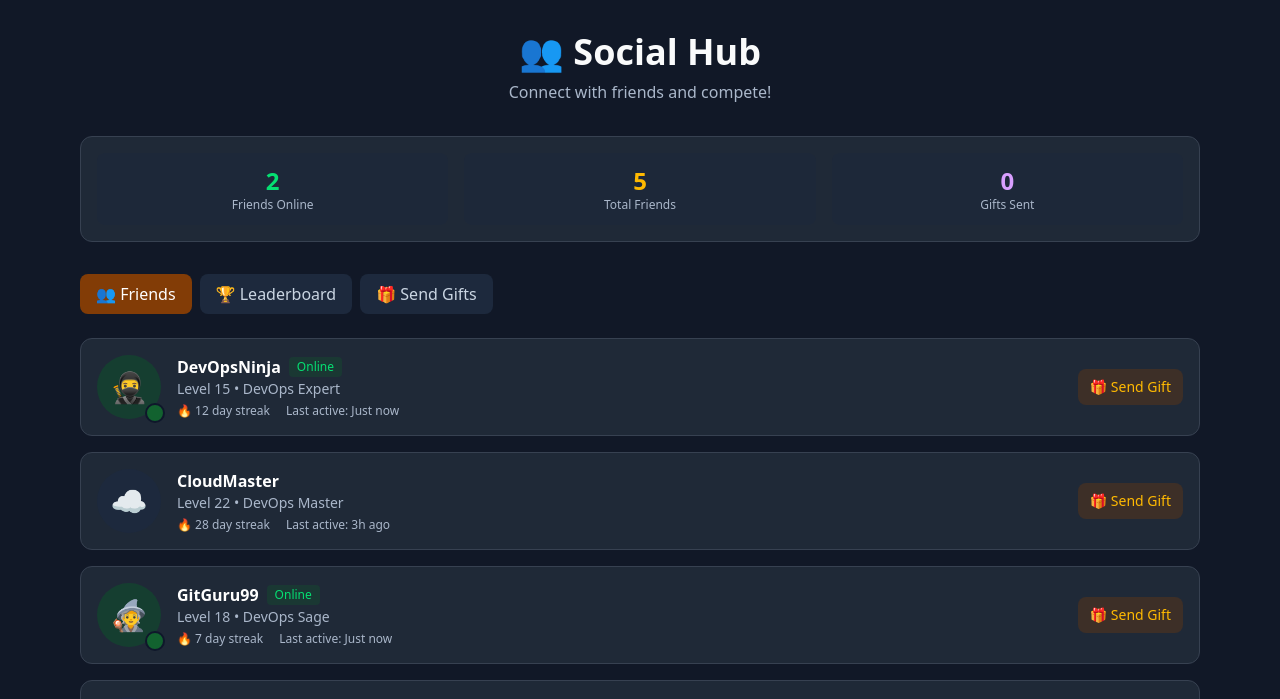
it: SocialPage › merges the player into the friends leaderboard
The width and height of the screenshot is (1280, 699).
Click the button "🏆 Leaderboard" at (276, 294), box [200,274,352,314]
(page scrolled)
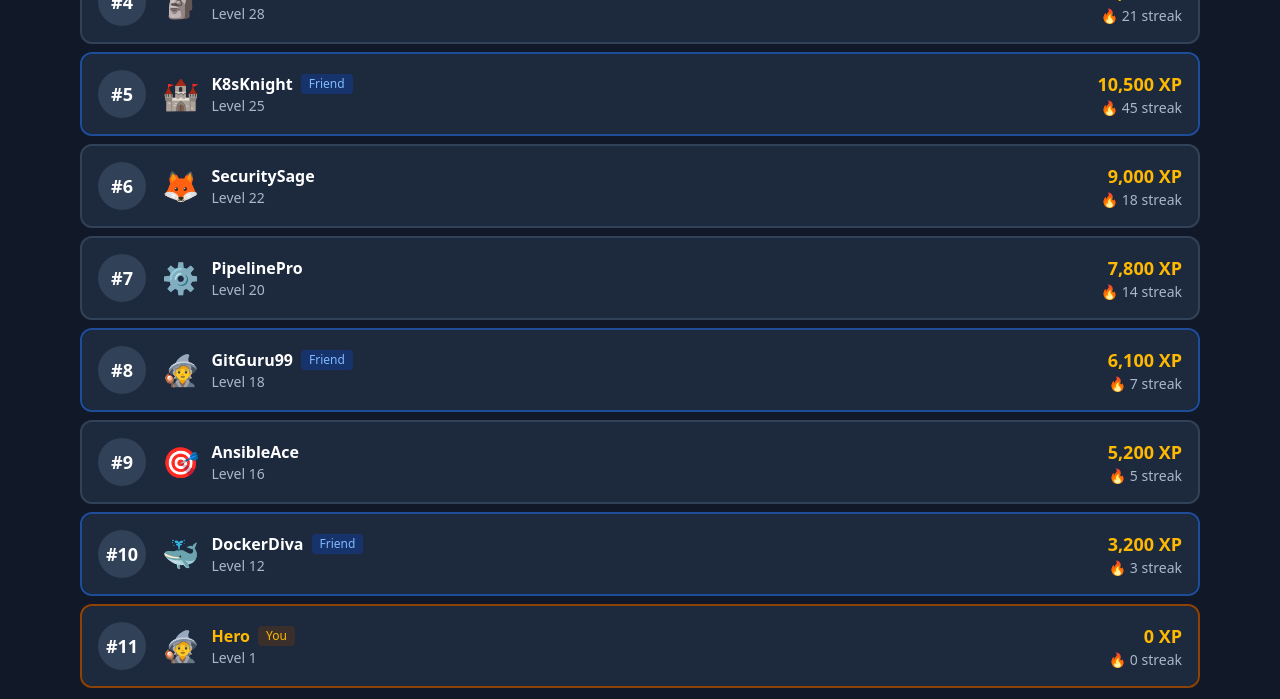
Expected: the text "PipelinePro" is shown, [211,256,302,280]
Expected: the text "AnsibleAce" is shown, [211,440,299,464]
Expected: the text "SecuritySage" is shown, [211,164,315,188]
